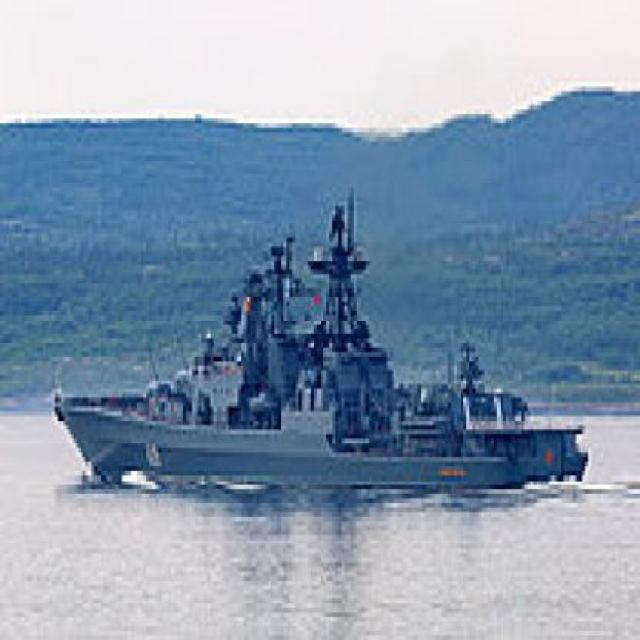warship2: (53, 184, 587, 509)
